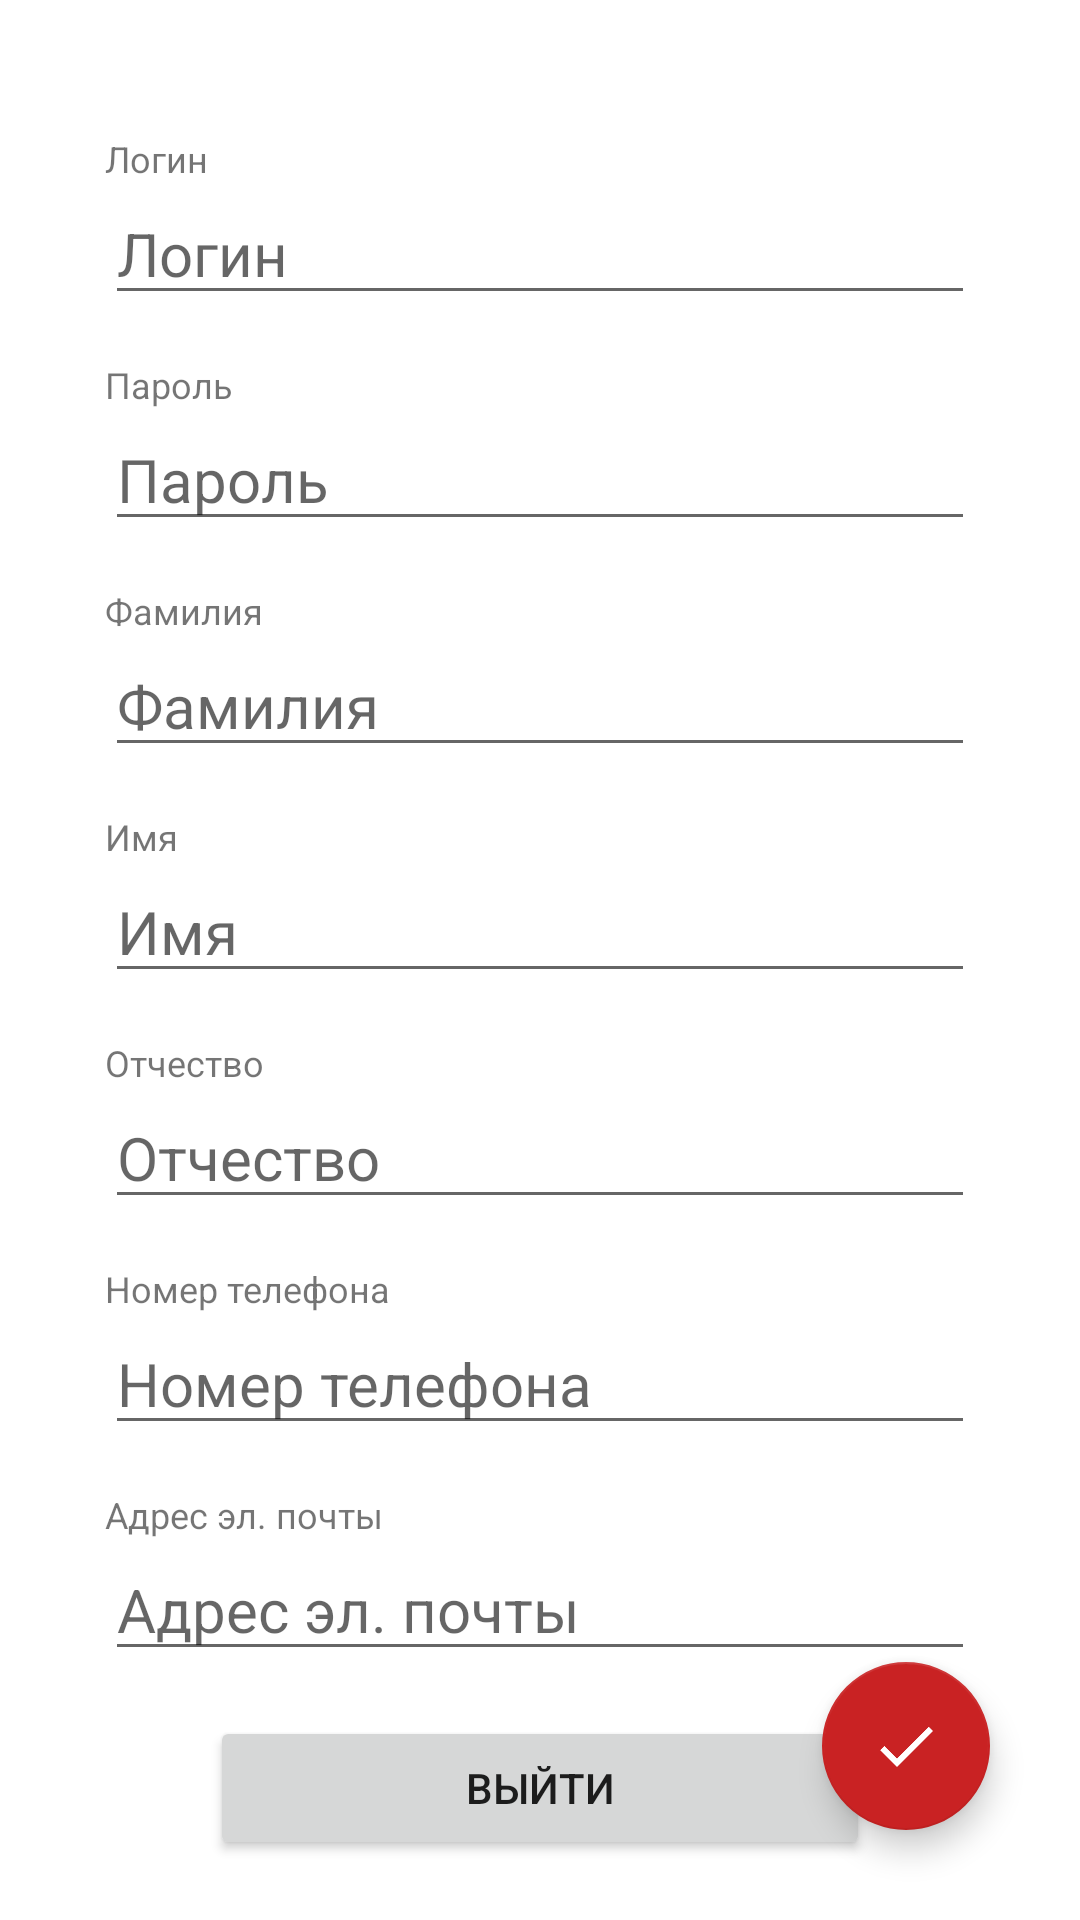

Named icons in this screenshot (1080*1920) and their bounding boxes, (x1, y1, x2, y2):
Сохранить: (822, 1662, 990, 1830)
